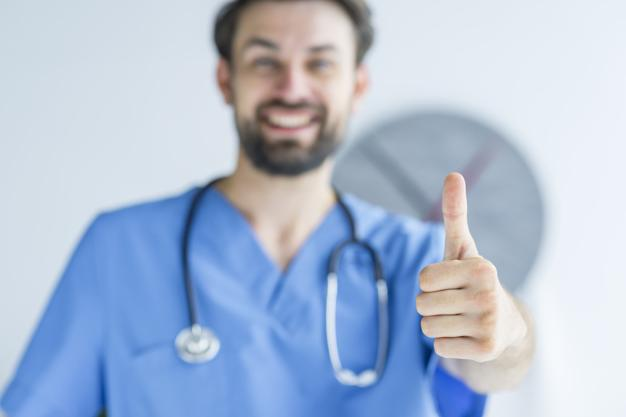thumbsup: (415, 172, 507, 362)
